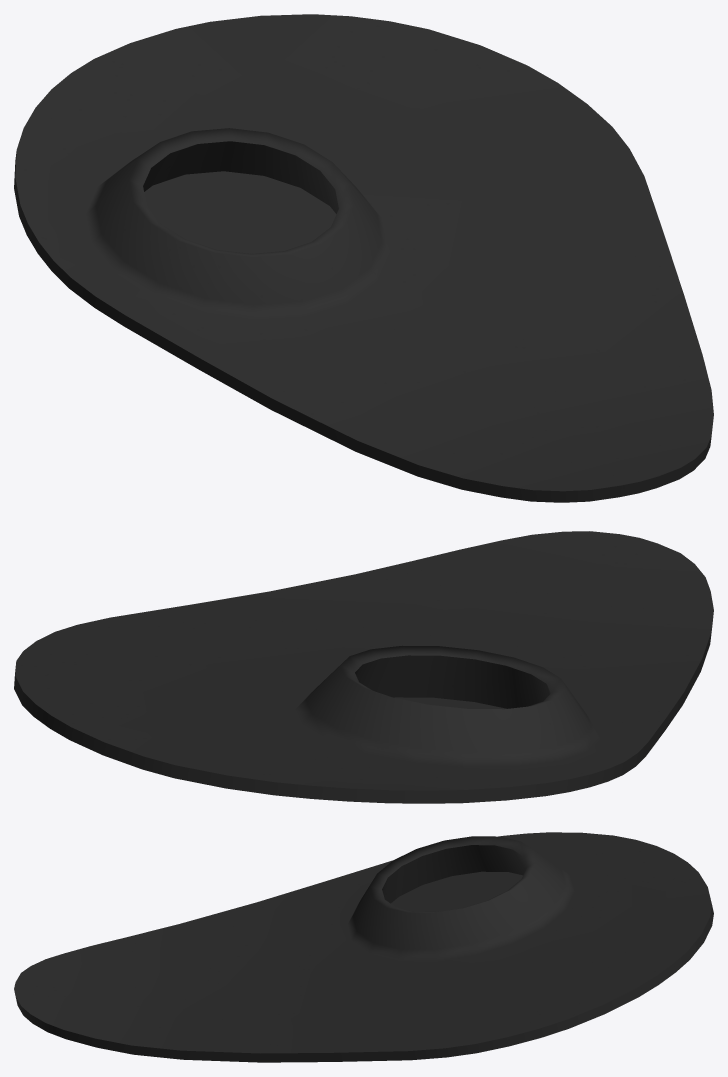
The model's file is oculus_quest_controller_left_facePlate.obj.
3 renders of one model, top to bottom at view 1: azimuth 30°, elevation 25°; view 2: azimuth 150°, elevation 25°; view 3: azimuth 270°, elevation 25°, orthographic. The views are drawn at different scales.
Size of the model in its own units: 0.0447 by 0.0104 by 0.0648.
